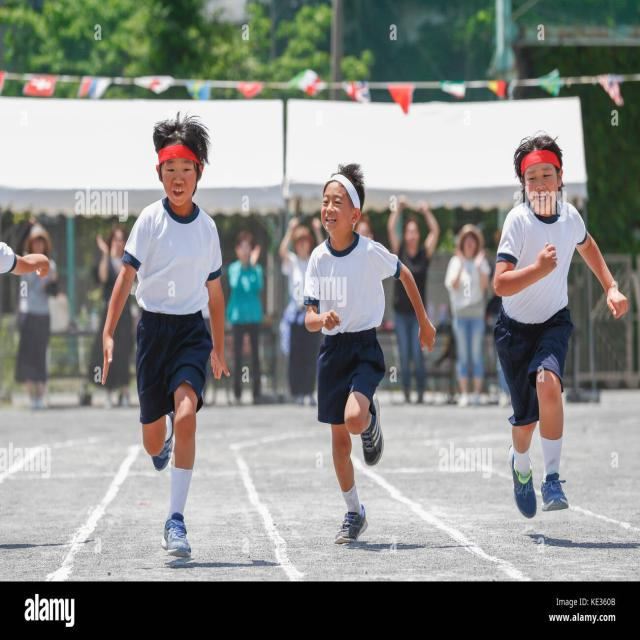Person: (101, 121, 230, 559), (494, 133, 629, 518), (304, 163, 434, 545), (445, 225, 490, 407)
